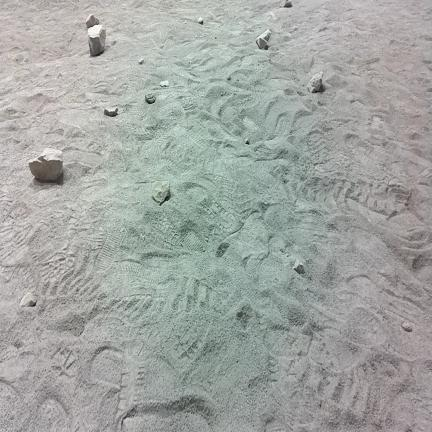Rock: (29, 148, 62, 180), (88, 25, 105, 56), (153, 181, 169, 204), (256, 29, 272, 49), (308, 71, 323, 92), (20, 293, 36, 306), (216, 243, 229, 257), (86, 14, 99, 28), (294, 260, 304, 274), (104, 107, 118, 116), (401, 322, 413, 332), (145, 94, 155, 104), (280, 0, 292, 7), (160, 81, 168, 87), (139, 58, 145, 64), (198, 17, 203, 24), (246, 138, 249, 144), (227, 76, 231, 80)
